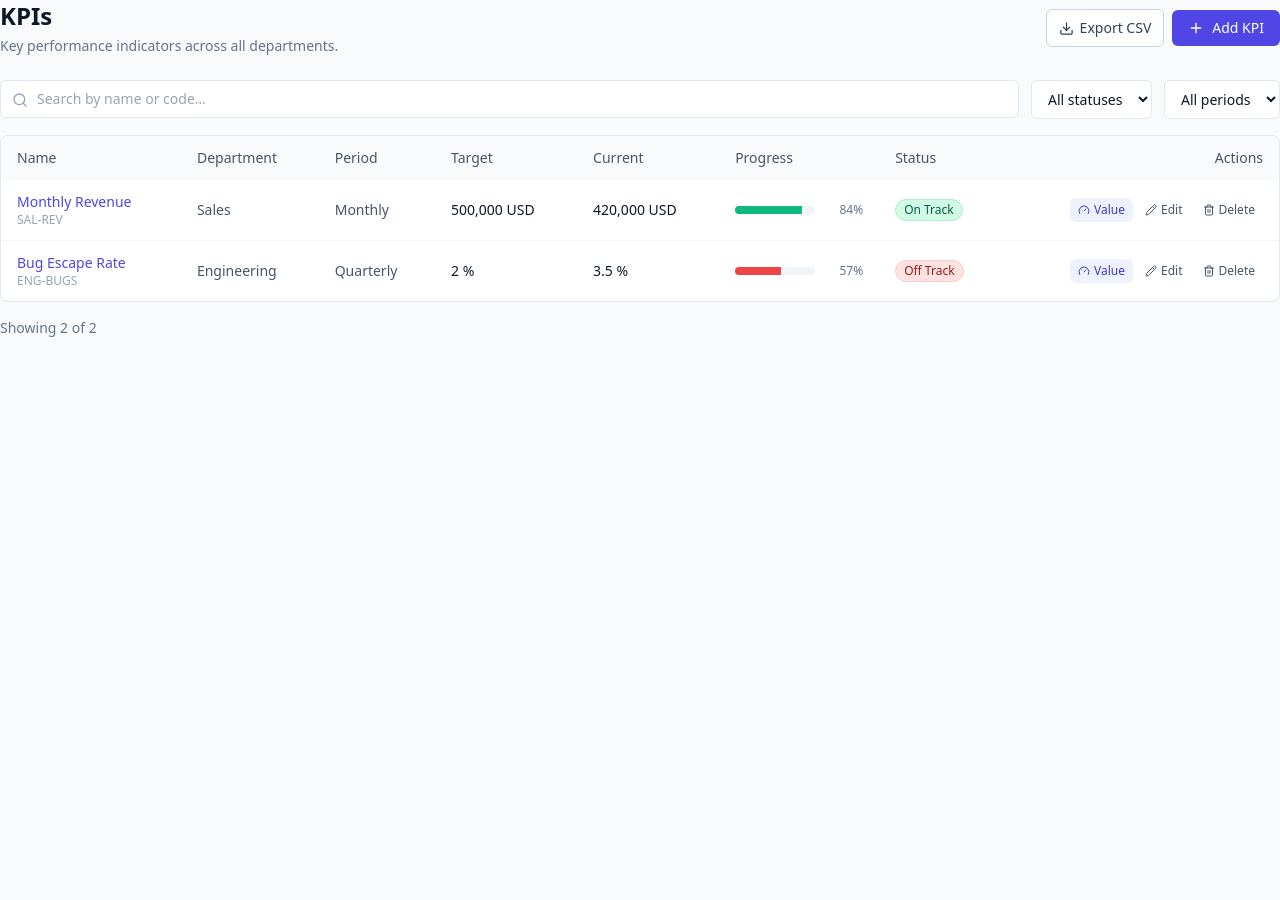
Test case: KpisPage Integration & Workflow Tests › Quick Value Modal Workflow › opens Quick Value modal from row, submits update, and refetches list
Expected: the link "Monthly Revenue" is shown, [17,192,132,211]
Note: Find the "Value" button on the Monthly Revenue row
Click the button "Value" in the row of "Monthly Revenue" at (1102, 210), box [1070,198,1133,222]
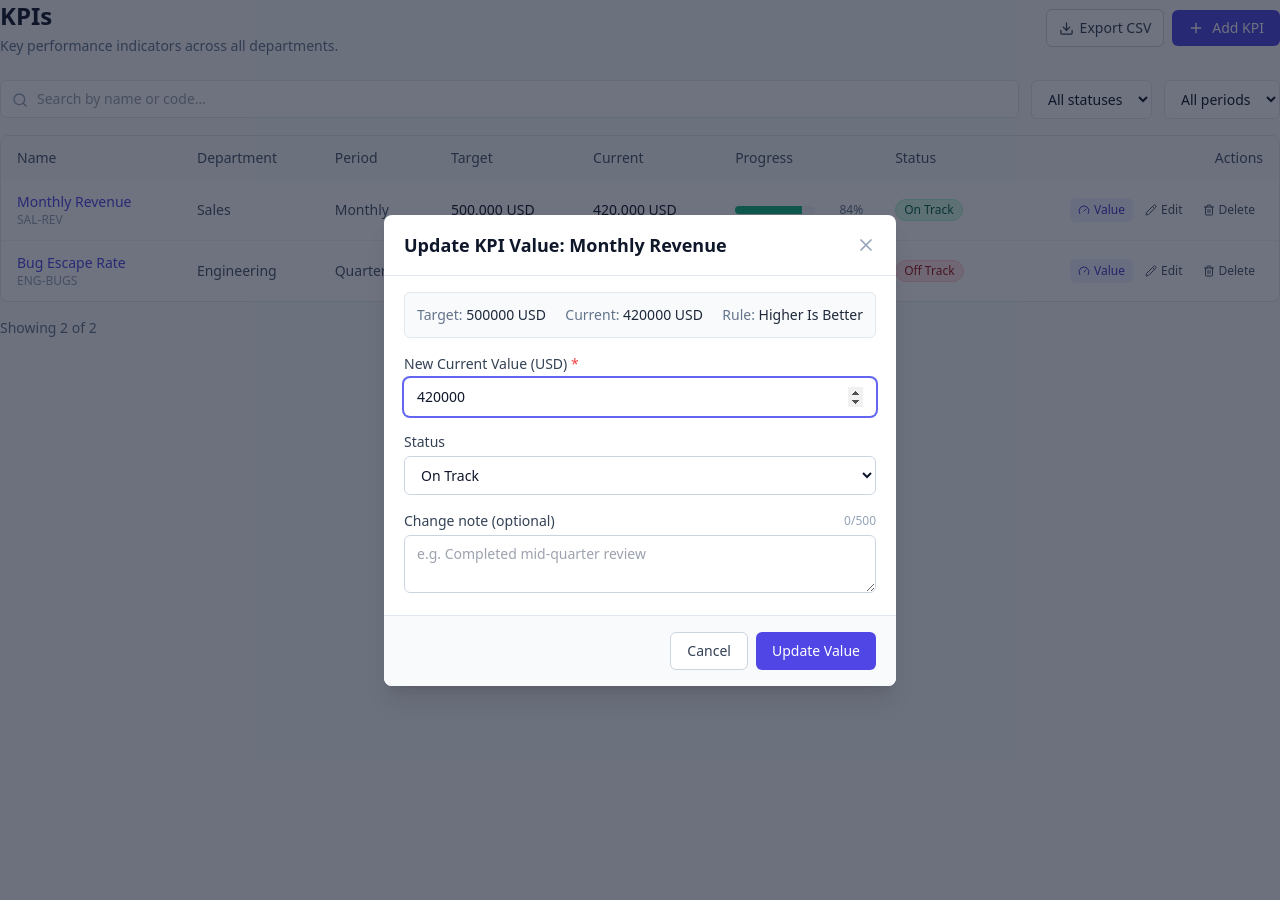
Expected: the heading "Update KPI Value: Monthly Revenue" is shown, [404,230,727,258]
Expected: the number field labelled "New Current Value (USD) *" holds "420000"
Note: Edit value and change status
Replace the text in the number field labelled "New Current Value (USD) *" with "450000" at (640, 396), box [404,378,876,416]
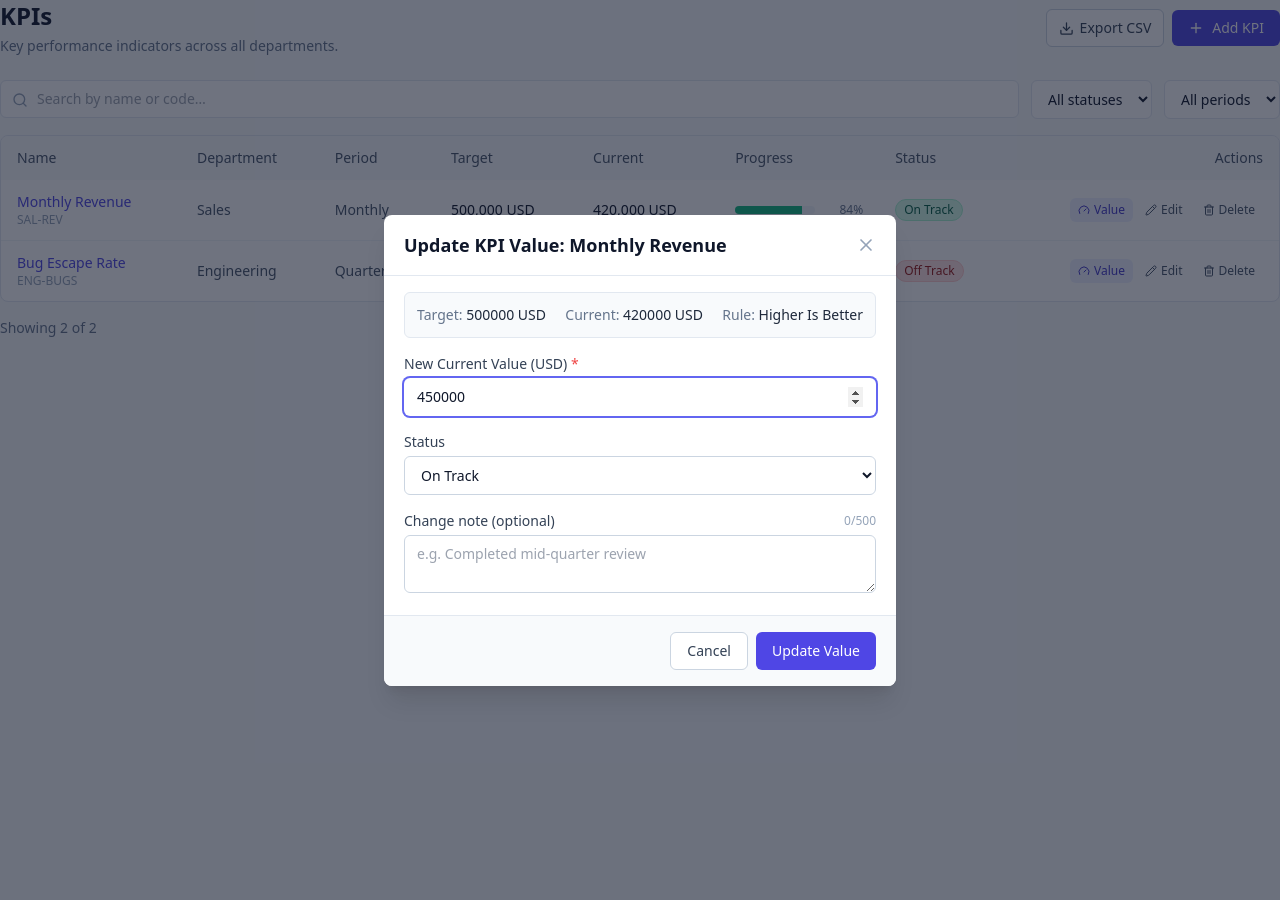
Select "At Risk" in the dropdown labelled "Status" at (640, 475), box [404,456,876,494]
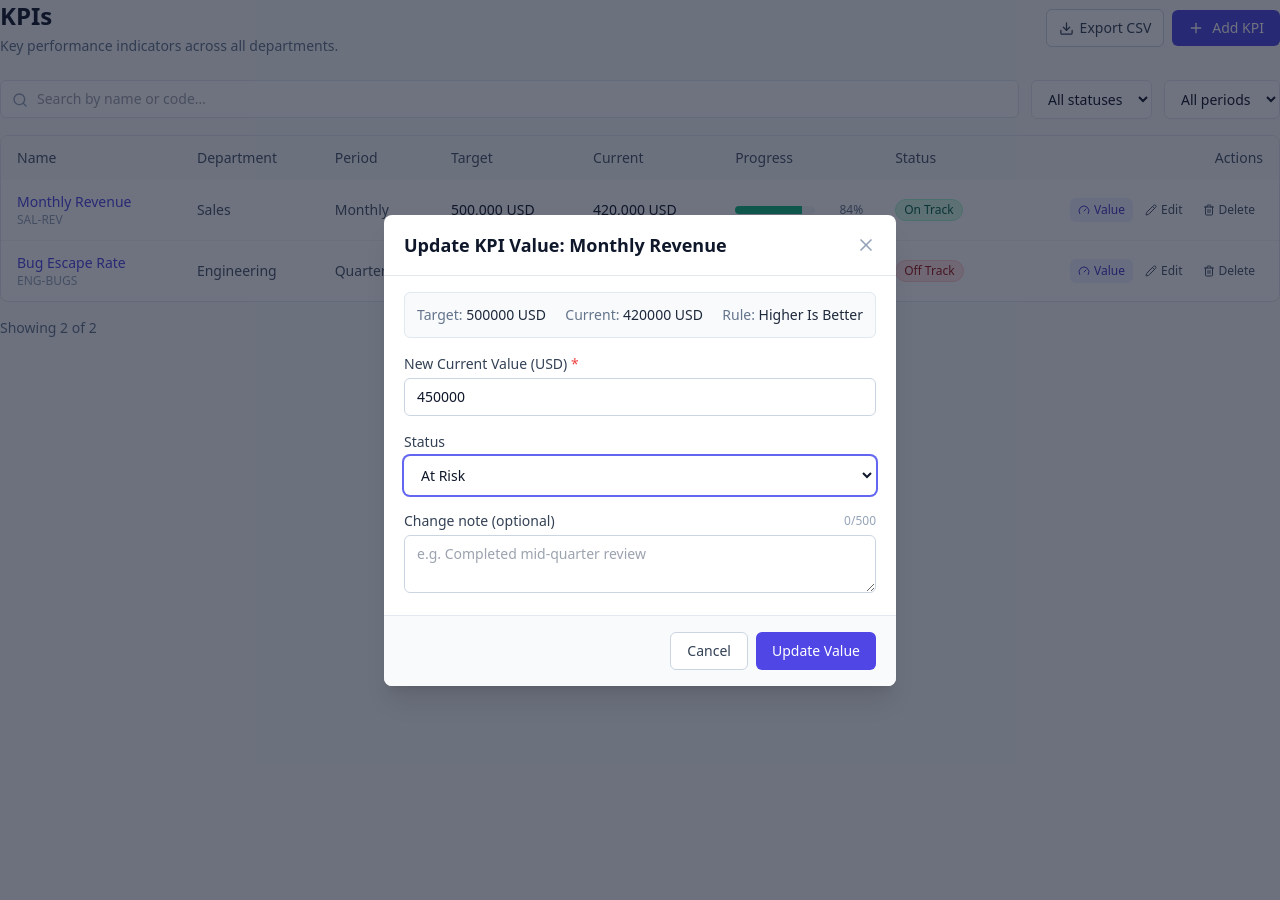
Click the button "Update Value" at (816, 650), box [756,632,876,670]
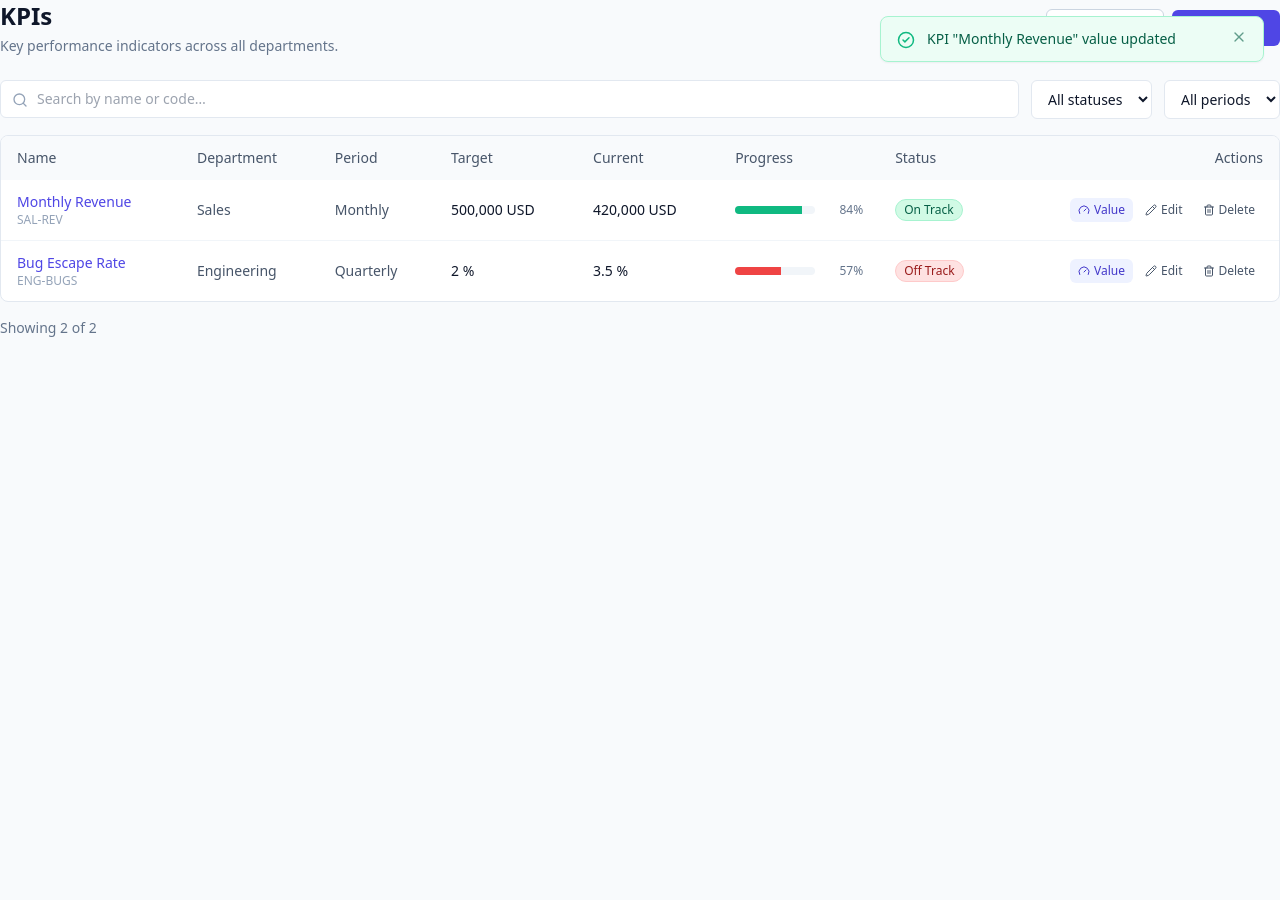
Expected: the text "KPI \"Monthly Revenue\" value updated" is shown, [927,29,1219,49]
Expected: the heading "Update KPI Value: Monthly Revenue" is gone
